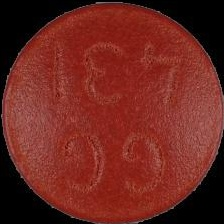43353-164: (0, 0, 224, 224)
